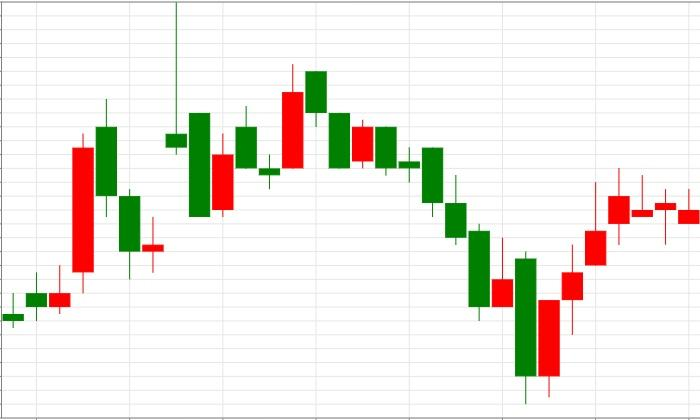three_white_soldiers_rise: (305, 69, 608, 404)
